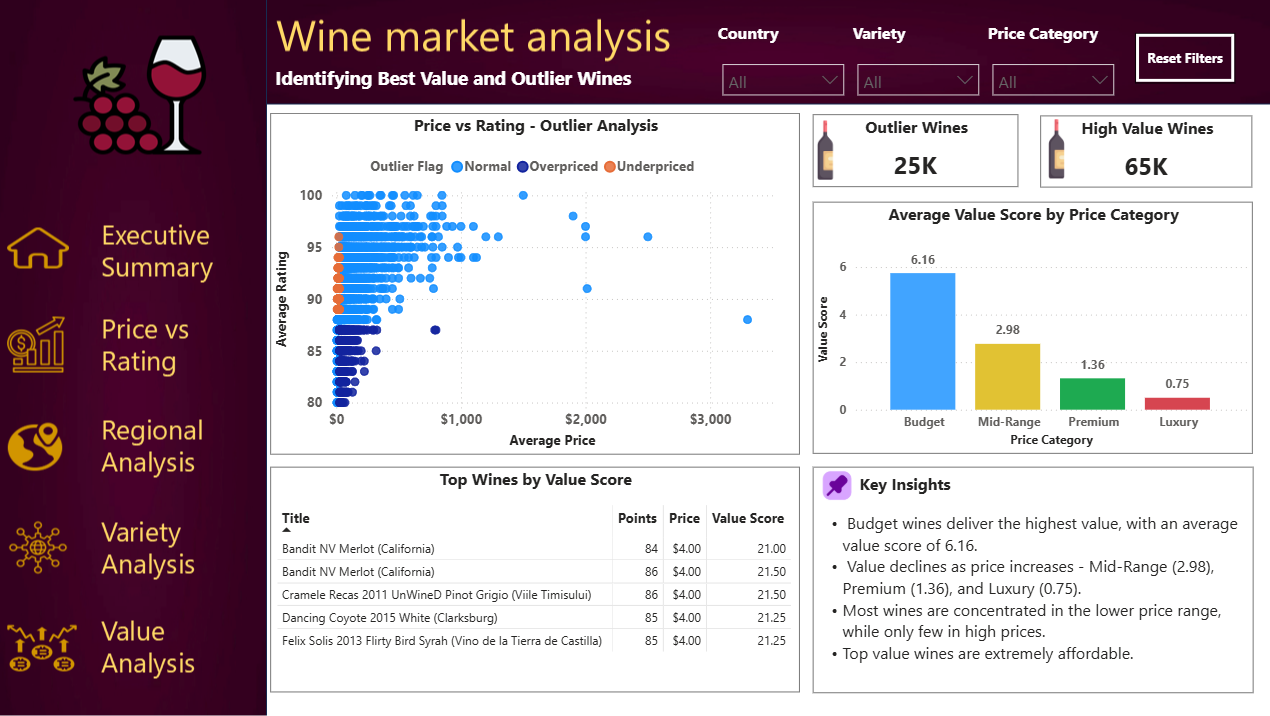

Layout of this report page (visuals, bound fields, positions):
{"tool":"powerbi","page":{"name":"Value Analysis","canvas":[1280,720],"ordinal":4},"visuals":[{"type":"actionButton","title":"Reset Filters","box":[1136.7,34.8,100.2,50.1],"z":0},{"type":"slicer","title":"Country","fields":{"Values":["wine_data wine_insight.country"]},"box":[719,24.1,135.1,77.2],"z":1000},{"type":"slicer","title":"Variety","fields":{"Values":["wine_data wine_insight.variety"]},"box":[854.2,24.1,135.1,77.2],"z":2000},{"type":"slicer","title":"Price Category","fields":{"Values":["wine_data wine_insight.price_category"]},"box":[989.3,24.1,135.1,77.2],"z":3000},{"type":"tableEx","title":"Top Wines by Value Score","fields":{"Values":["wine_data wine_insight.title","wine_data wine_insight.points","wine_data wine_insight.price","wine_data wine_insight.Value Score"]},"box":[271.4,469.3,529.6,225.6],"z":4000},{"type":"scatterChart","title":"Price vs Rating - Outlier Analysis","fields":{"X":["Avg(wine_data wine_insight.price)"],"Y":["Avg(wine_data wine_insight.points)"],"Category":["wine_data wine_insight.id"],"Series":["wine_data wine_insight.Outlier Flag"]},"box":[271.4,114.6,529.6,341.4],"z":5000},{"type":"clusteredColumnChart","title":"Average Value Score by Price Category","fields":{"Category":["wine_data wine_insight.price_category"],"Y":["wine_data wine_insight.Value Score"]},"box":[813.1,203.9,440.4,252.1],"z":6000},{"type":"card","title":"High Value Wines","fields":{"Values":["wine_data wine_insight.High Value Wines"]},"box":[1041.2,117,212.3,72.4],"z":7000},{"type":"card","title":"Outlier Wines","fields":{"Values":["wine_data wine_insight.Outlier Wines"]},"box":[813.7,116.6,205.8,72.7],"z":8000},{"type":"textbox","box":[813.7,469.3,440.5,226.4],"z":9000},{"type":"textbox","box":[271.7,63.1,392.5,38.4],"z":10000},{"type":"image","box":[822,469.3,31.4,37.4],"z":11000},{"type":"image","box":[786.3,122.1,79.6,59.1],"z":12000},{"type":"image","box":[1017,121.9,79.6,59.1],"z":13000},{"type":"actionButton","box":[0,306.1,268.5,80.7],"z":13001},{"type":"actionButton","box":[0,403.5,268.5,80.7],"z":13002},{"type":"actionButton","box":[0,512,268.5,80.7],"z":13003},{"type":"actionButton","box":[0,610.8,268.5,80.7],"z":13004},{"type":"actionButton","box":[0,214.3,268.5,80.7],"z":13005}]}

Visuals, with their boxes in screenshot pixels (x1, y1, x2, y2), scaled from the page's 1280x720 canvas onto the 1270x716 screenshot:
"Reset Filters" actionButton: <bbox>1128, 35, 1227, 84</bbox>
"Country" slicer: <bbox>713, 24, 847, 101</bbox>
"Variety" slicer: <bbox>848, 24, 982, 101</bbox>
"Price Category" slicer: <bbox>982, 24, 1116, 101</bbox>
"Top Wines by Value Score" tableEx: <bbox>269, 467, 795, 691</bbox>
"Price vs Rating - Outlier Analysis" scatterChart: <bbox>269, 114, 795, 453</bbox>
"Average Value Score by Price Category" clusteredColumnChart: <bbox>807, 203, 1244, 453</bbox>
"High Value Wines" card: <bbox>1033, 116, 1244, 188</bbox>
"Outlier Wines" card: <bbox>807, 116, 1012, 188</bbox>
textbox: <bbox>807, 467, 1244, 692</bbox>
textbox: <bbox>270, 63, 659, 101</bbox>
image: <bbox>816, 467, 847, 504</bbox>
image: <bbox>780, 121, 859, 180</bbox>
image: <bbox>1009, 121, 1088, 180</bbox>
actionButton: <bbox>0, 304, 266, 385</bbox>
actionButton: <bbox>0, 401, 266, 482</bbox>
actionButton: <bbox>0, 509, 266, 589</bbox>
actionButton: <bbox>0, 607, 266, 688</bbox>
actionButton: <bbox>0, 213, 266, 293</bbox>
